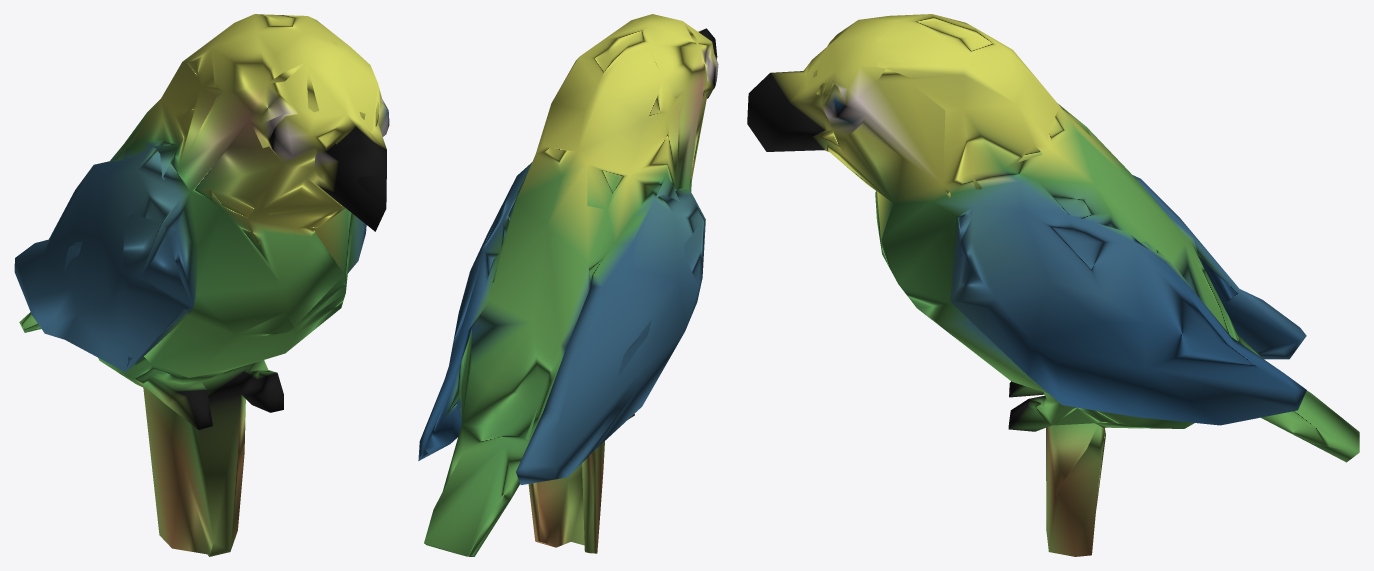
Rendered from gen3d-parrot-lod1.glb.
The picture shows the model from 3 angles, left to right: view 1: azimuth 30°, elevation 25°; view 2: azimuth 150°, elevation 25°; view 3: azimuth 270°, elevation 25°; orthographic projection. The views are drawn at different scales.
Visible parts, largest first — view 1: part_0; view 2: part_0; view 3: part_0.
Part boxes in pixels (x1,y1,x2,y2): part_0: (14, 14, 389, 556); part_0: (418, 14, 718, 556); part_0: (747, 14, 1359, 556).
Bounding box in the file's own units: 0.4291 × 0.9969 × 1.05.
